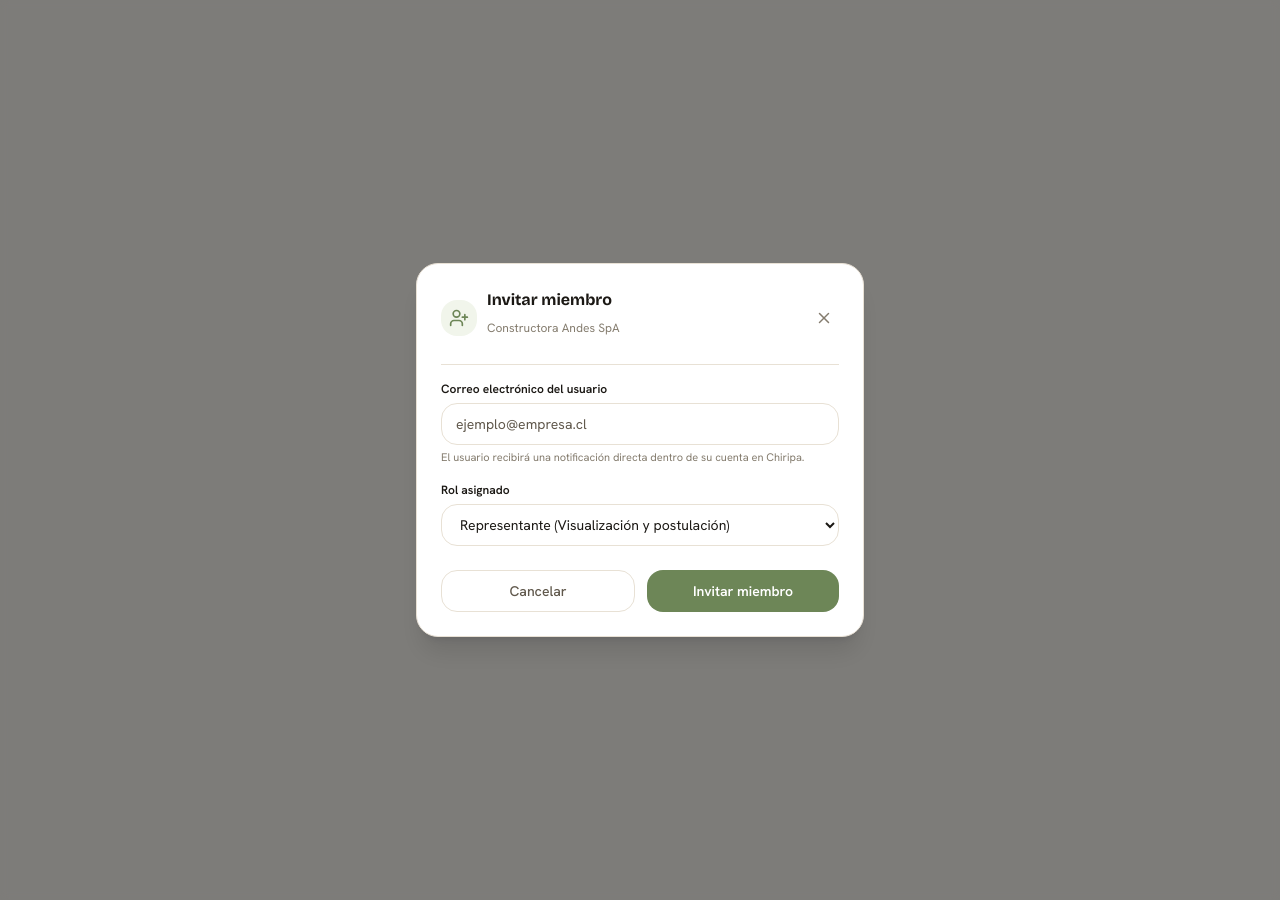
Test: InviteMemberModal › muestra error si se intenta enviar un correo inválido
The image size is (1280, 900).
Type "invalid-email" into the field labelled "Correo electrónico del usuario". click: {"x": 640, "y": 424}
box: [441,403,839,445]
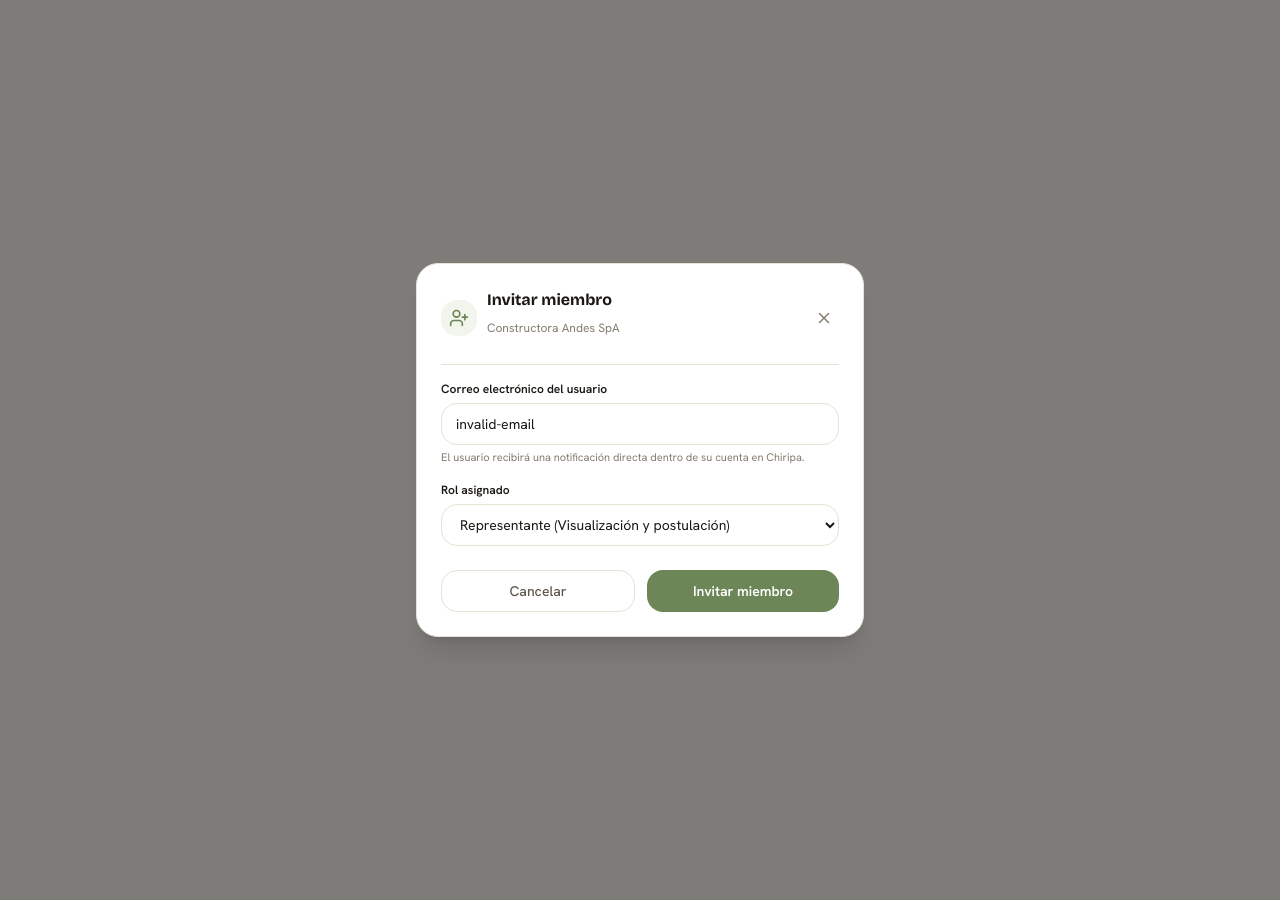
Click the button "Invitar miembro". click: {"x": 743, "y": 591}
box: [647,570,839,612]
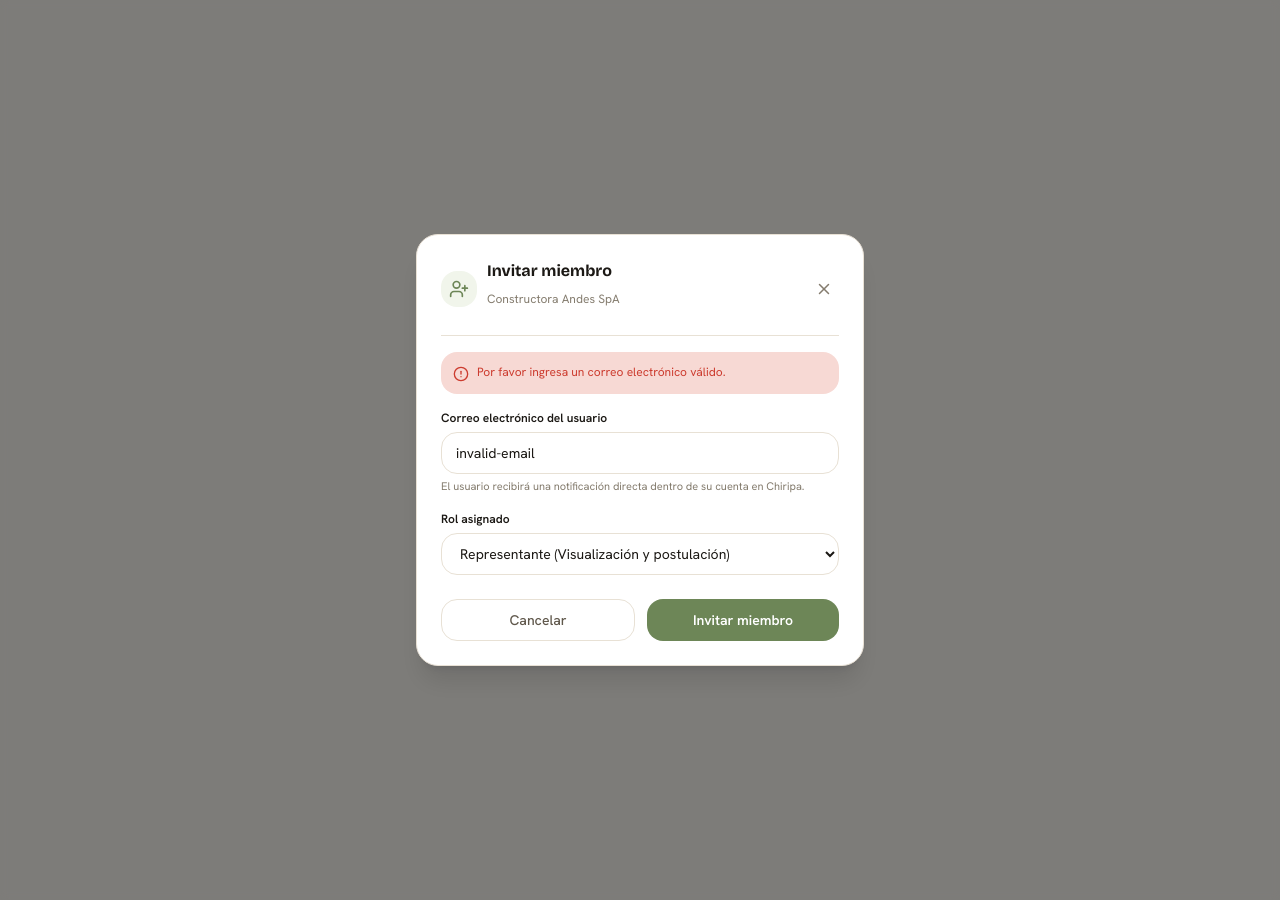
expect the text "Por favor ingresa un correo electrónico válido." is shown: met, box [477,364,726,380]
